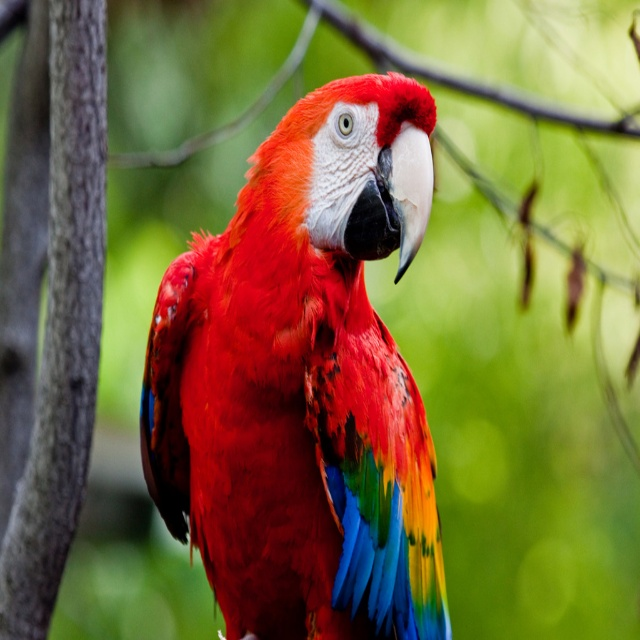Parrot: (139, 73, 456, 639)
